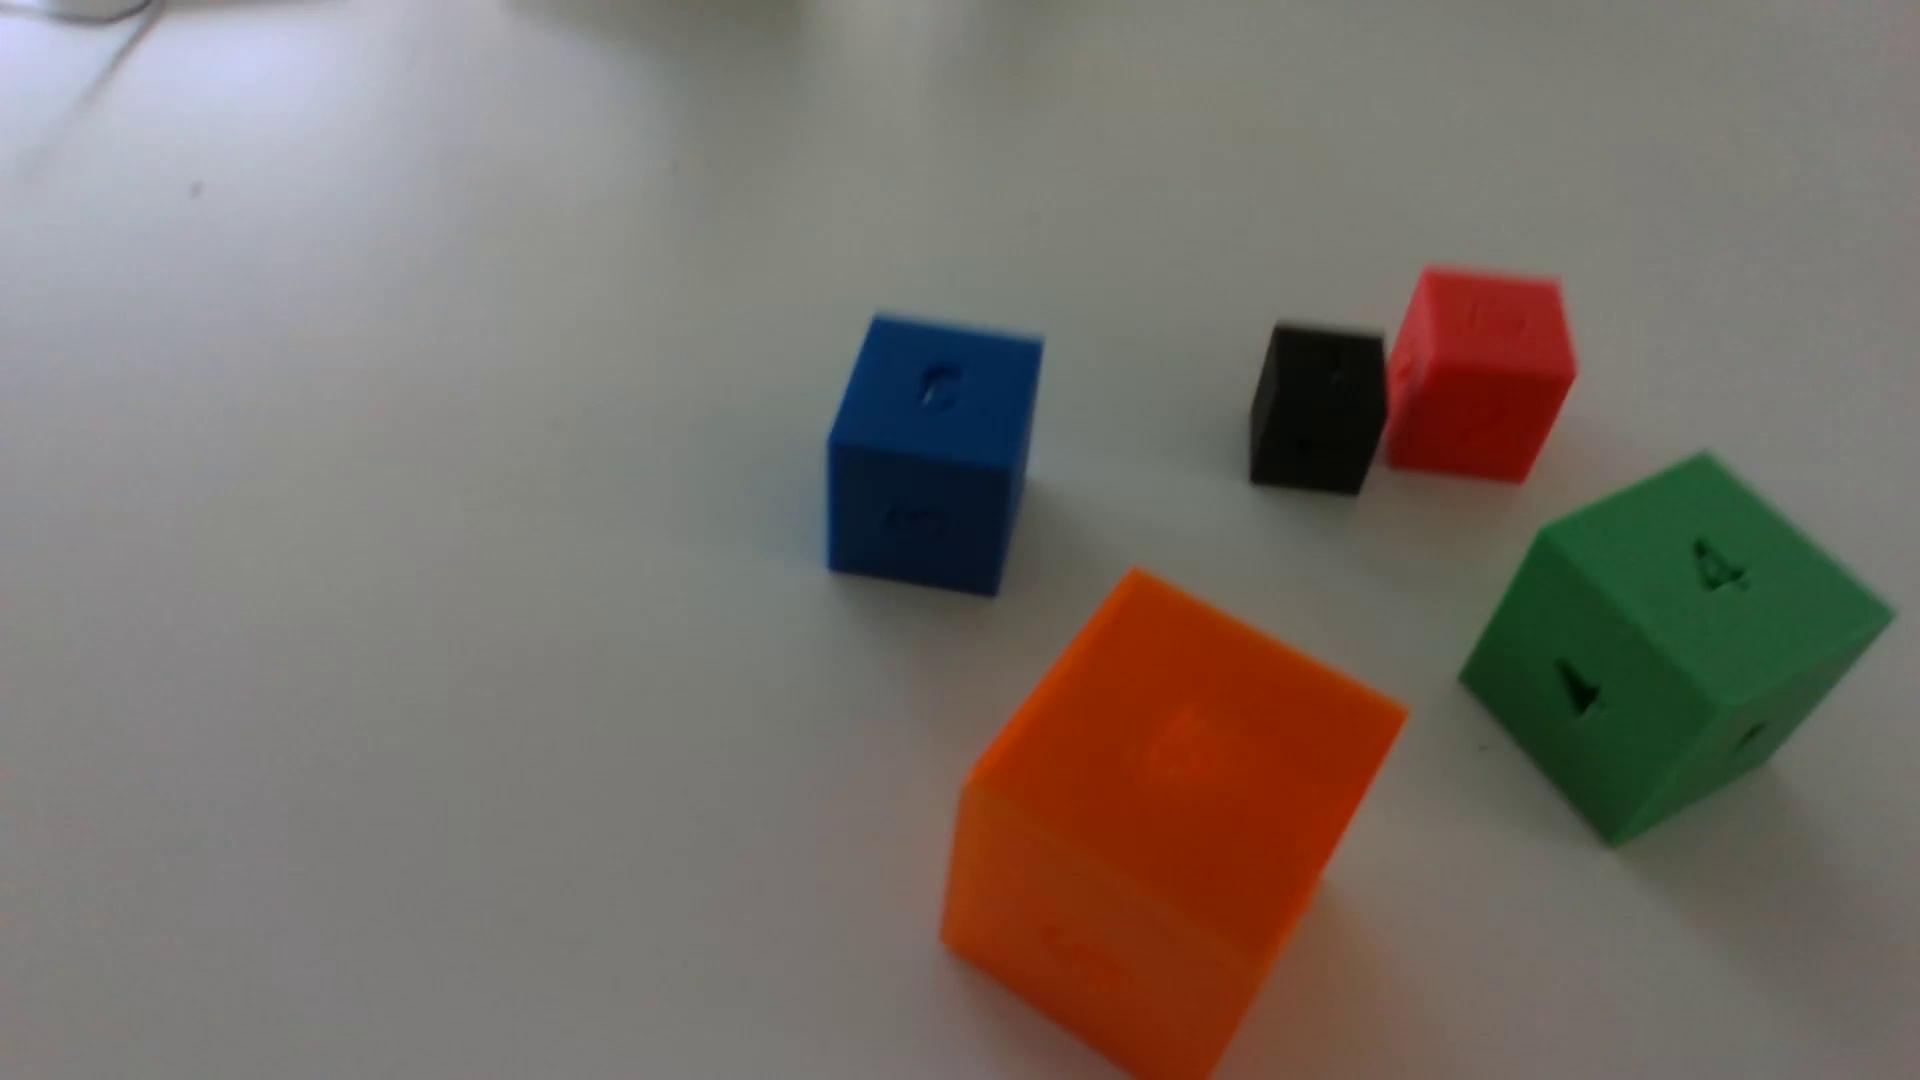black: (1247, 324, 1386, 498)
blue: (825, 316, 1042, 597)
green: (1458, 454, 1892, 847)
orange: (940, 571, 1406, 1080)
red: (1382, 268, 1576, 484)
